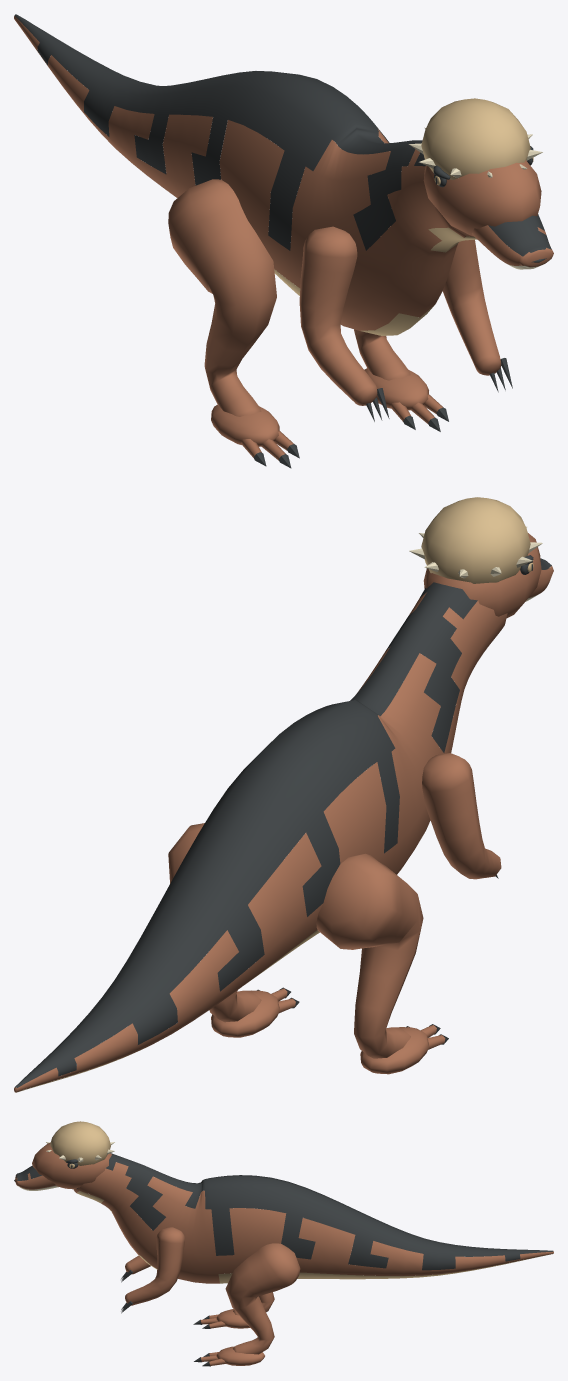
Rendered from primeval-frontier-pachycephalosaurus-e787b97d__1708.glb.
3 views of the same model, one above another, from view 1: azimuth 30°, elevation 25°; view 2: azimuth 150°, elevation 25°; view 3: azimuth 270°, elevation 25° (orthographic). The views are drawn at different scales.
Parts seen in each view (by area): view 1: pachycephalosaurus; view 2: pachycephalosaurus; view 3: pachycephalosaurus.
Boxes of the visible parts, x1,y1,x2,y2 form: pachycephalosaurus: [14, 14, 553, 468]; pachycephalosaurus: [14, 497, 553, 1092]; pachycephalosaurus: [14, 1121, 553, 1366].
Bounding box in the file's own units: 1.26 × 2.29 × 5.07.
